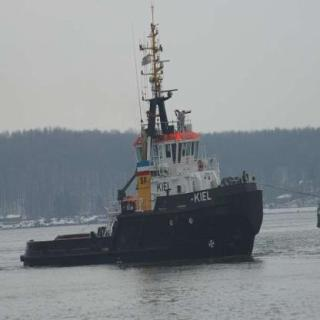Tug Boat: (44, 68, 262, 264)
